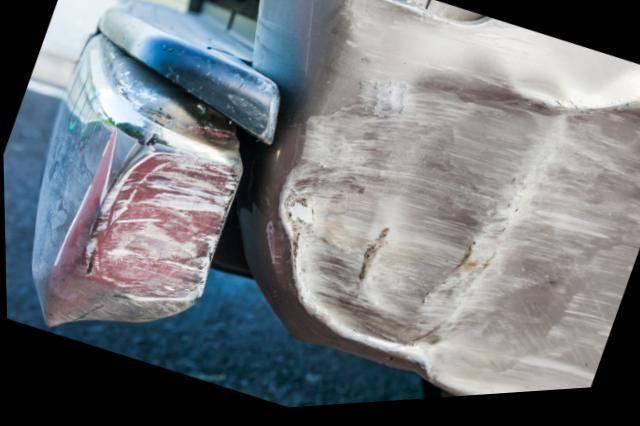dent: (264, 61, 640, 402)
no part: (377, 0, 489, 33)
scratch: (73, 152, 241, 326)
